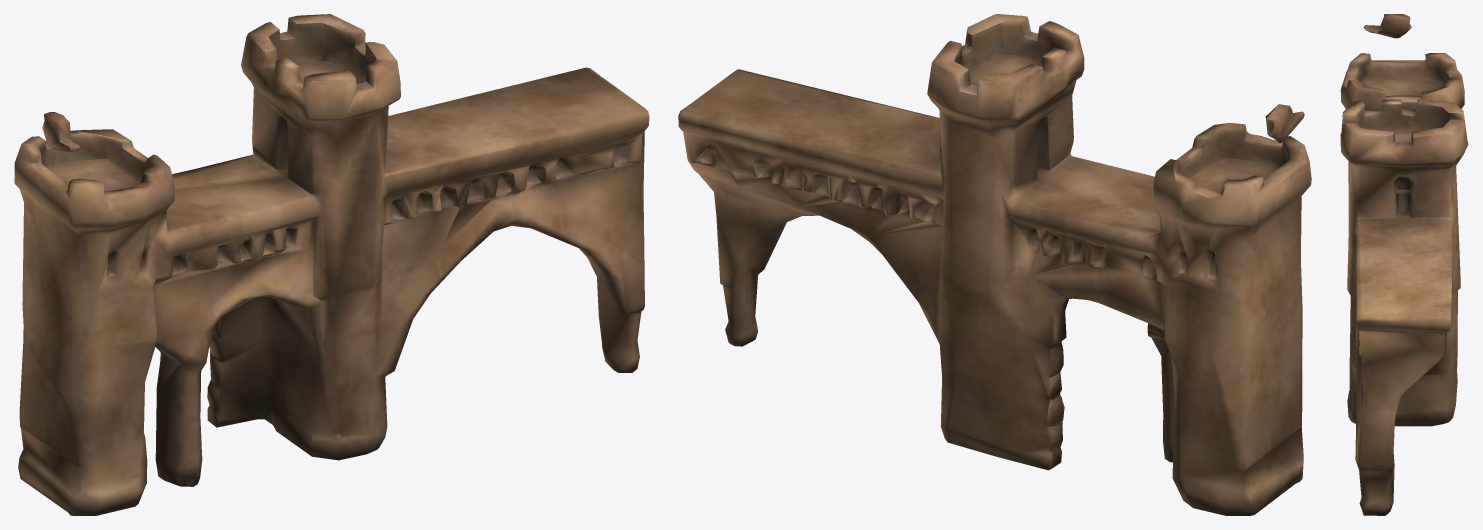
The model's file is ornate-sandstone-battlement-wall-v002.glb.
The picture shows the model from 3 angles, left to right: view 1: azimuth 30°, elevation 25°; view 2: azimuth 150°, elevation 25°; view 3: azimuth 270°, elevation 25°; orthographic projection. The views are drawn at different scales.
Parts seen in each view (by area): view 1: ornate-sandstone-battlement-wall; view 2: ornate-sandstone-battlement-wall; view 3: ornate-sandstone-battlement-wall.
Boxes of the visible parts, bbox=[...] form: ornate-sandstone-battlement-wall: bbox=[14, 14, 649, 515]; ornate-sandstone-battlement-wall: bbox=[678, 14, 1311, 515]; ornate-sandstone-battlement-wall: bbox=[1340, 14, 1468, 515].
Size of the model in its own units: 3.72 by 2.39 by 0.9242.
Materials: 1 (1 with a texture image).
